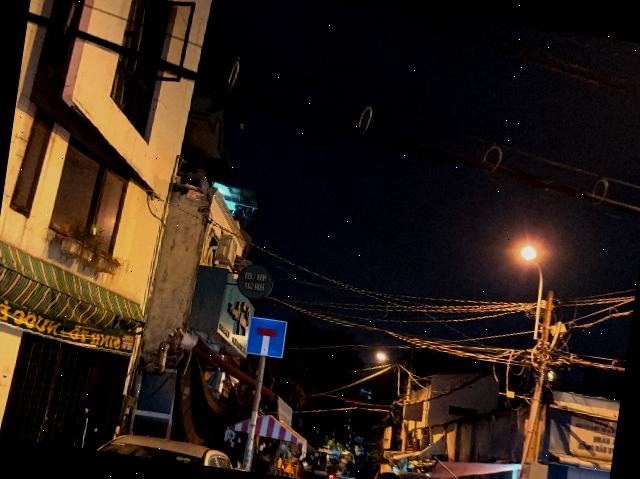duong-cut: (246, 316, 288, 358)
